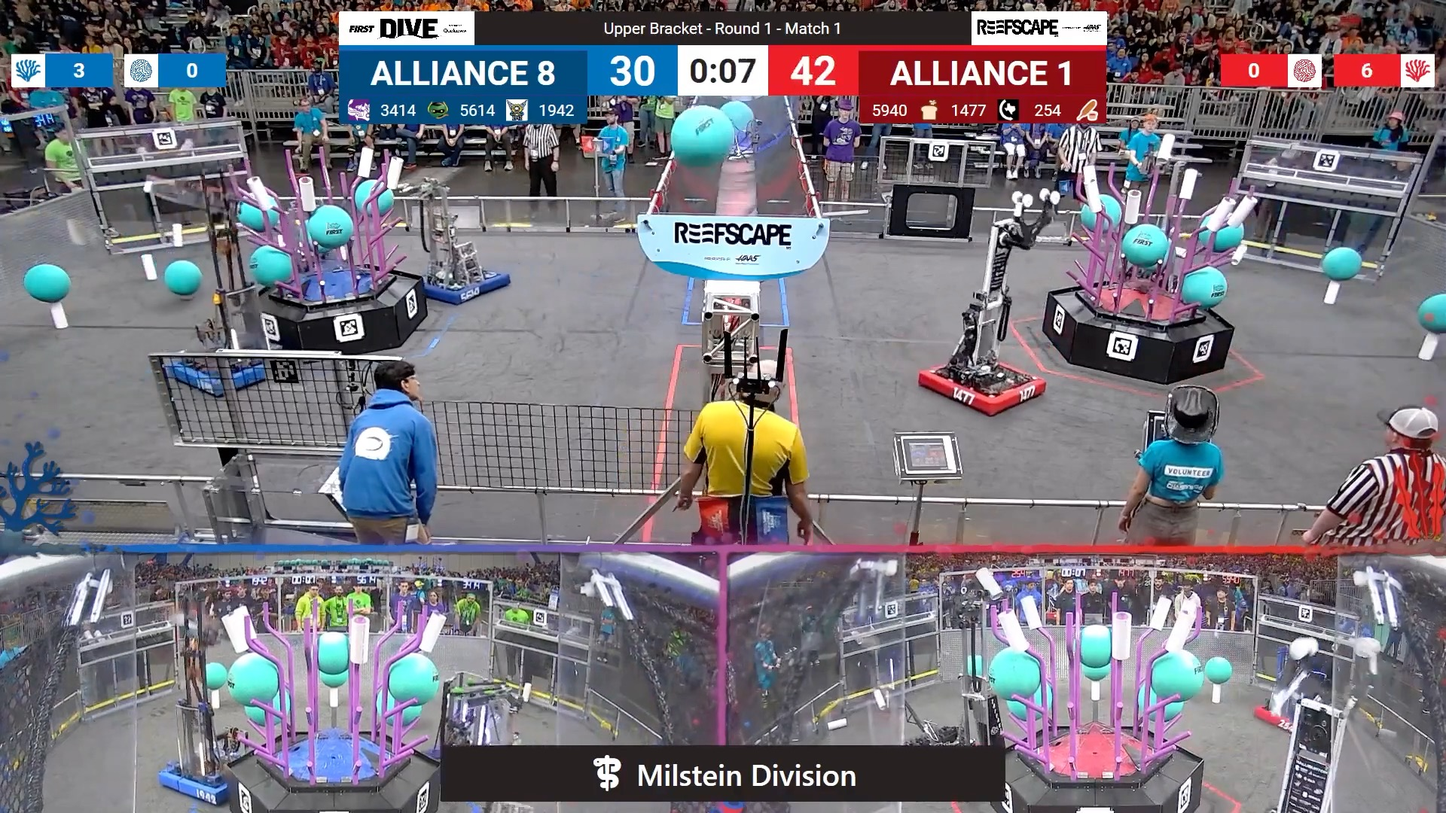bumpers: (915, 356, 1048, 414), (154, 750, 246, 807), (412, 269, 520, 304), (161, 359, 273, 392), (1249, 690, 1322, 737)
